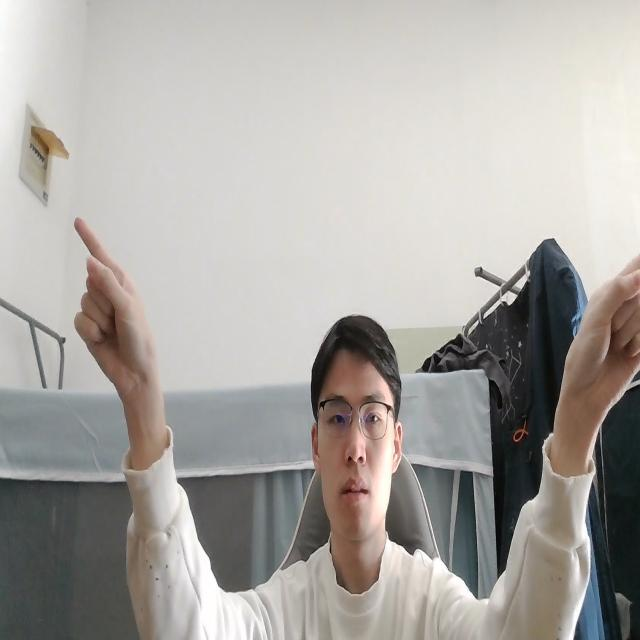one: (70, 213, 167, 445), (555, 229, 640, 438)
